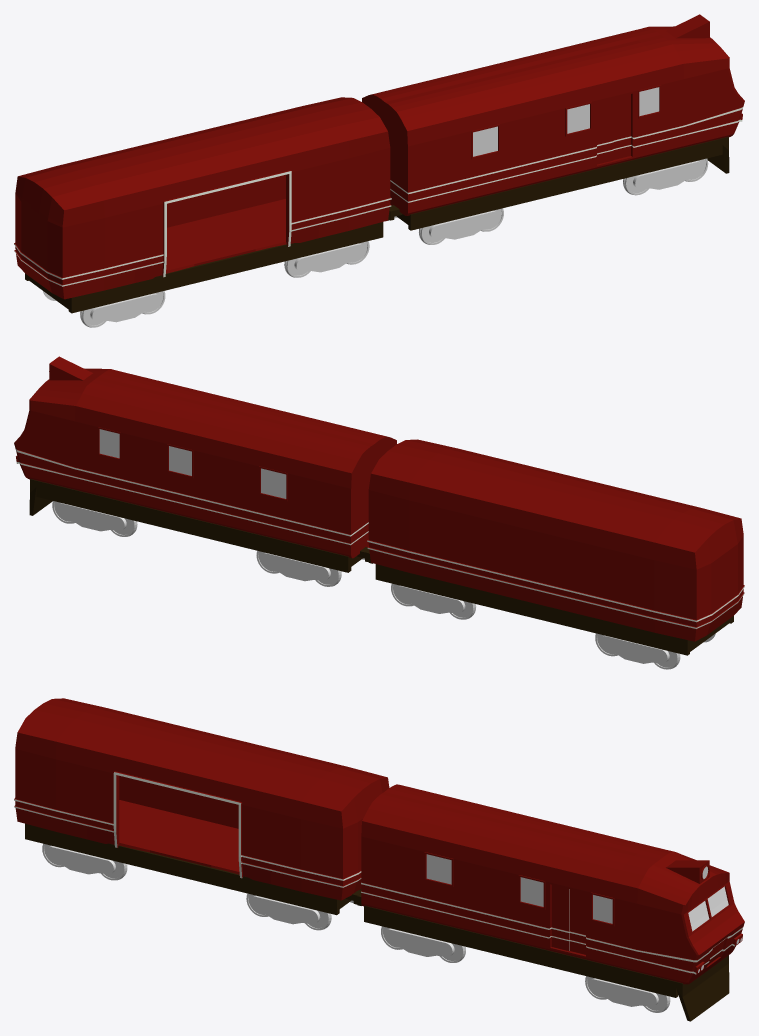
File: train.fbx
3 renders of one model, top to bottom at view 1: azimuth 30°, elevation 25°; view 2: azimuth 150°, elevation 25°; view 3: azimuth 330°, elevation 25°, orthographic.
Visible parts, largest first — view 1: Cube.004, Cube, Cube.001, Cube.003, Cylinder.009, Cylinder.019, Cylinder.025, Cylinder.004, Cube.002; view 2: Cube.004, Cube, Cube.001, Cube.003, Cylinder.002, Cylinder.021, Cylinder.027, Cylinder.011, Cube.002; view 3: Cube.004, Cube, Cube.001, Cube.003, Cylinder.009, Cylinder.025, Cylinder.019, Cylinder.004, Cube.002.
Boxes of the visible parts, left/top/right/bottom form: Cube.004: left=14, top=97, right=391, bottom=299; Cube: left=362, top=26, right=744, bottom=215; Cube.001: left=389, top=136, right=729, bottom=230; Cube.003: left=25, top=211, right=389, bottom=313; Cylinder.009: left=429, top=210, right=498, bottom=239; Cylinder.019: left=294, top=243, right=364, bottom=272; Cylinder.025: left=90, top=293, right=160, bottom=322; Cylinder.004: left=633, top=161, right=702, bottom=189; Cube.002: left=666, top=14, right=709, bottom=38; Cube.004: left=367, top=439, right=744, bottom=641; Cube: left=14, top=368, right=396, bottom=558; Cube.001: left=29, top=479, right=369, bottom=572; Cube.003: left=369, top=553, right=733, bottom=655; Cylinder.002: left=56, top=503, right=126, bottom=531; Cylinder.021: left=395, top=585, right=465, bottom=613; Cylinder.027: left=599, top=635, right=669, bottom=663; Cylinder.011: left=261, top=552, right=330, bottom=581; Cube.002: left=49, top=356, right=92, bottom=380; Cube.004: left=14, top=698, right=389, bottom=900; Cube: left=361, top=784, right=744, bottom=984; Cube.001: left=357, top=893, right=729, bottom=1021; Cube.003: left=25, top=823, right=361, bottom=915; Cylinder.009: left=384, top=928, right=454, bottom=956; Cylinder.025: left=46, top=845, right=115, bottom=874; Cylinder.019: left=250, top=895, right=320, bottom=924; Cylinder.004: left=589, top=978, right=658, bottom=1006; Cube.002: left=666, top=860, right=709, bottom=883.
Bounding box in the file's own units: 215 × 1710 × 337.
